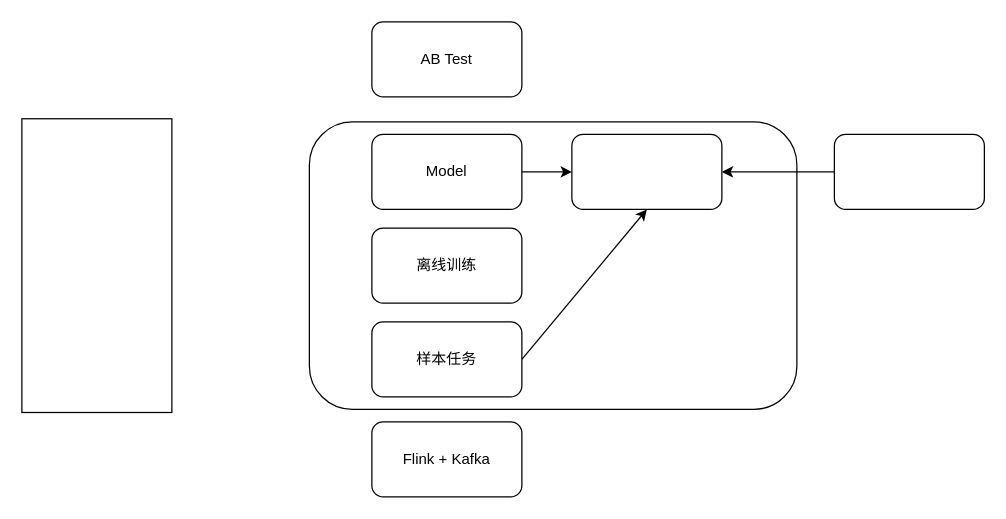
Image size: 1006x519. Some labels were removed from this diagram. Here are the shapes that lost their labels. From the top down, the centre of each, then its label:
[646,171]: 特征
[96,265]: Meta Server： 服务启动更新依赖方 稳定性要求高
